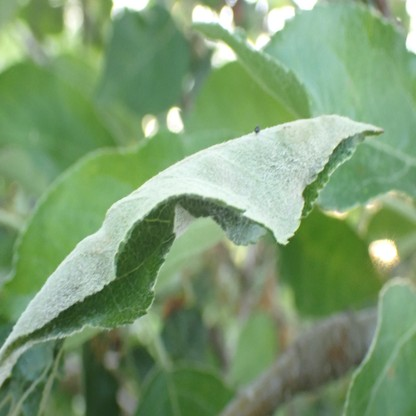powder: (0, 115, 386, 384)
